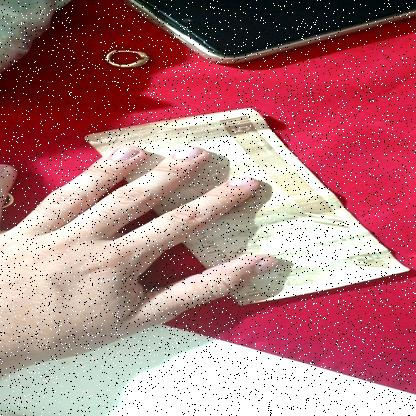five-back-vef: (84, 107, 410, 305)
